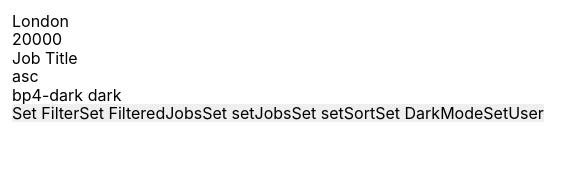
GeneralProvider › set the user
Click the button "SetUser": (514, 113) x1=483 y1=104 x2=544 y2=122
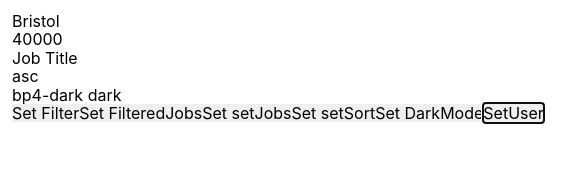
Check: the text with test id "users-value" reads "Bristol", box x1=12 y1=11 x2=60 y2=31
Check: the text with test id "users-salary" reads "40000", box x1=12 y1=29 x2=63 y2=49
